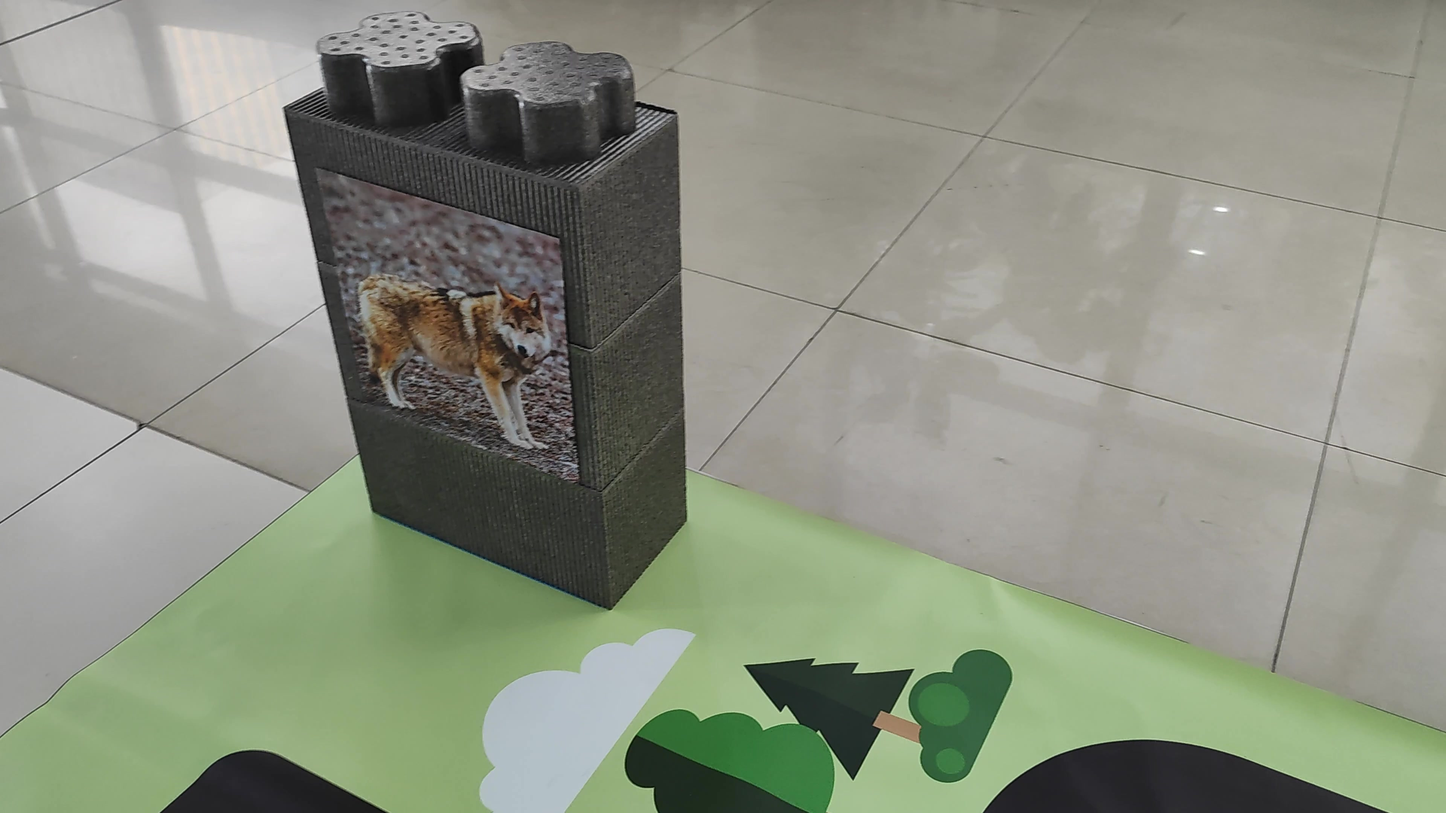wolf: (329, 175, 570, 465)
